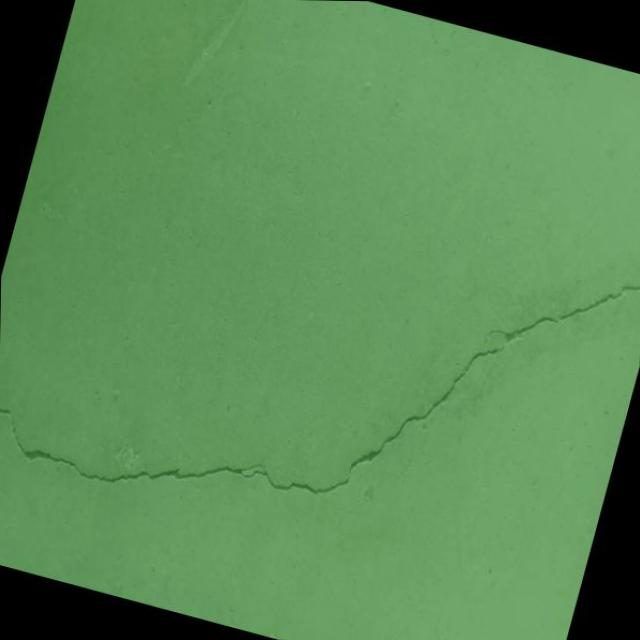crack: (0, 216, 505, 577), (479, 201, 640, 388)
